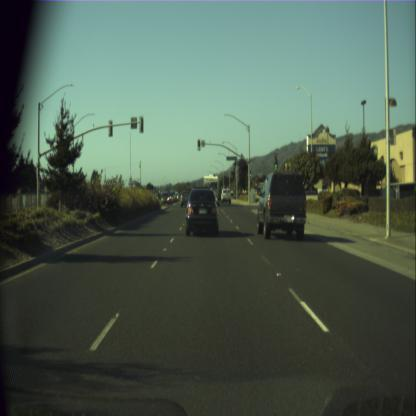Green: (274, 152, 278, 169), (197, 139, 200, 150), (249, 170, 250, 177)
